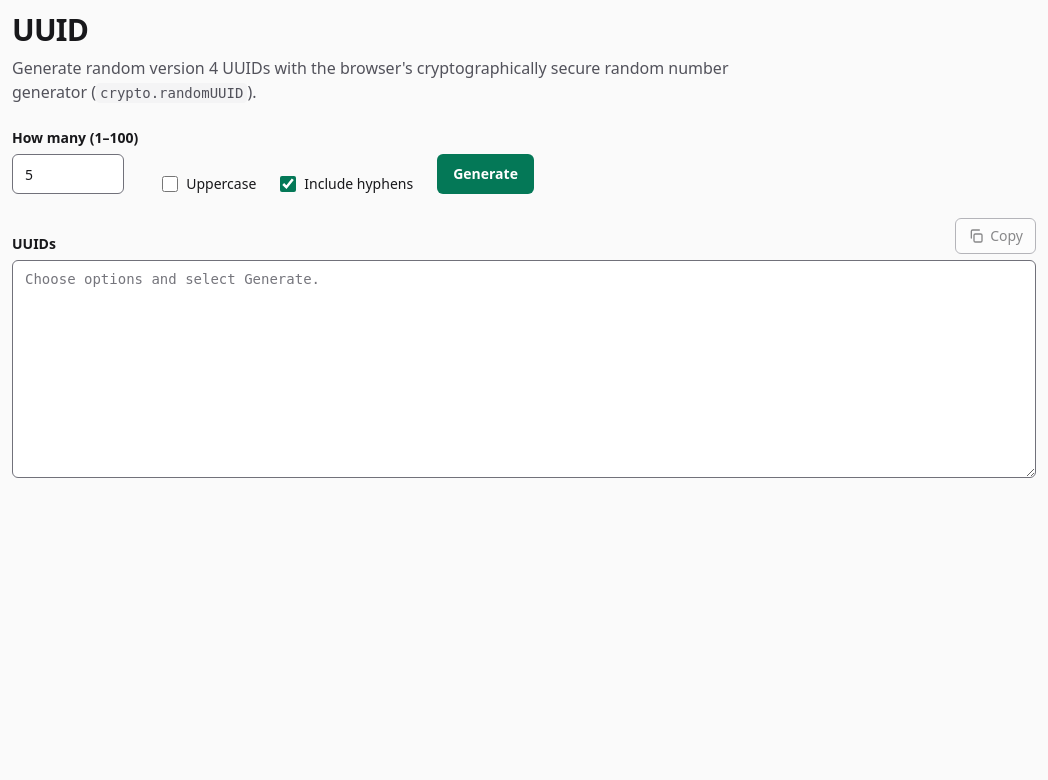
Test: UuidTool › explains an invalid count
The image size is (1048, 780).
Replace the text in the number field labelled "How many (1–100)" with "500" at (68, 174), box [12, 154, 124, 194]
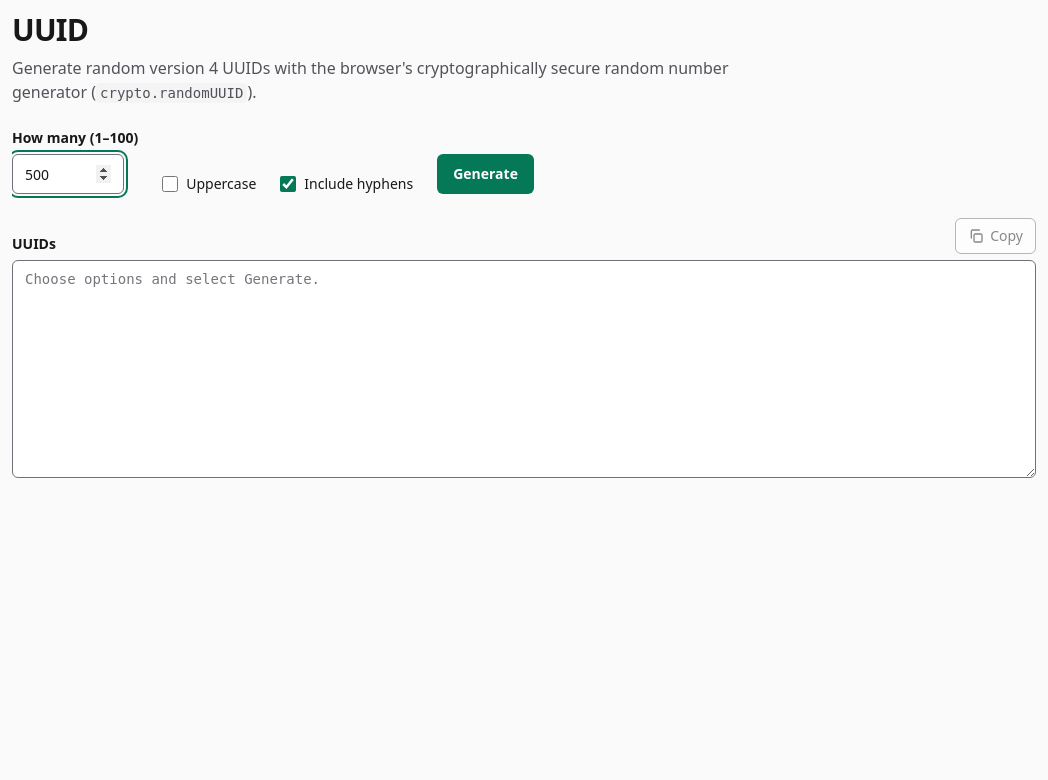
Click the button "Generate" at (486, 174), box [437, 154, 534, 194]
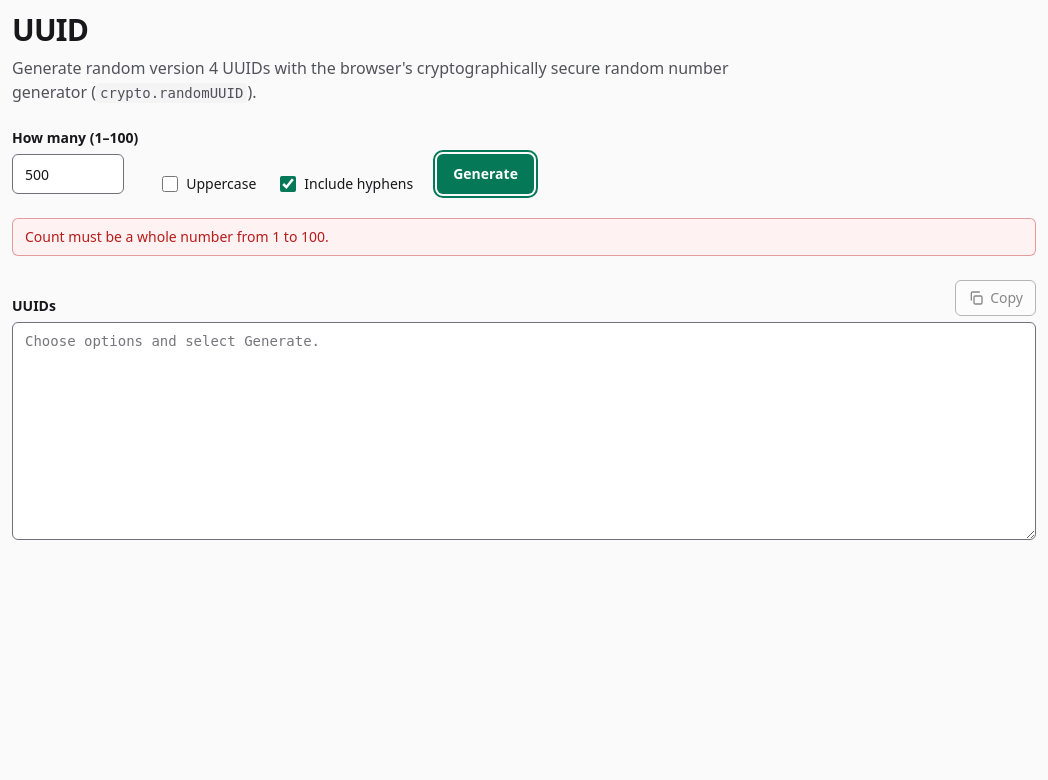
Now the message reads "Count must be a whole number from 1 to 100.", box [25, 227, 329, 246]
